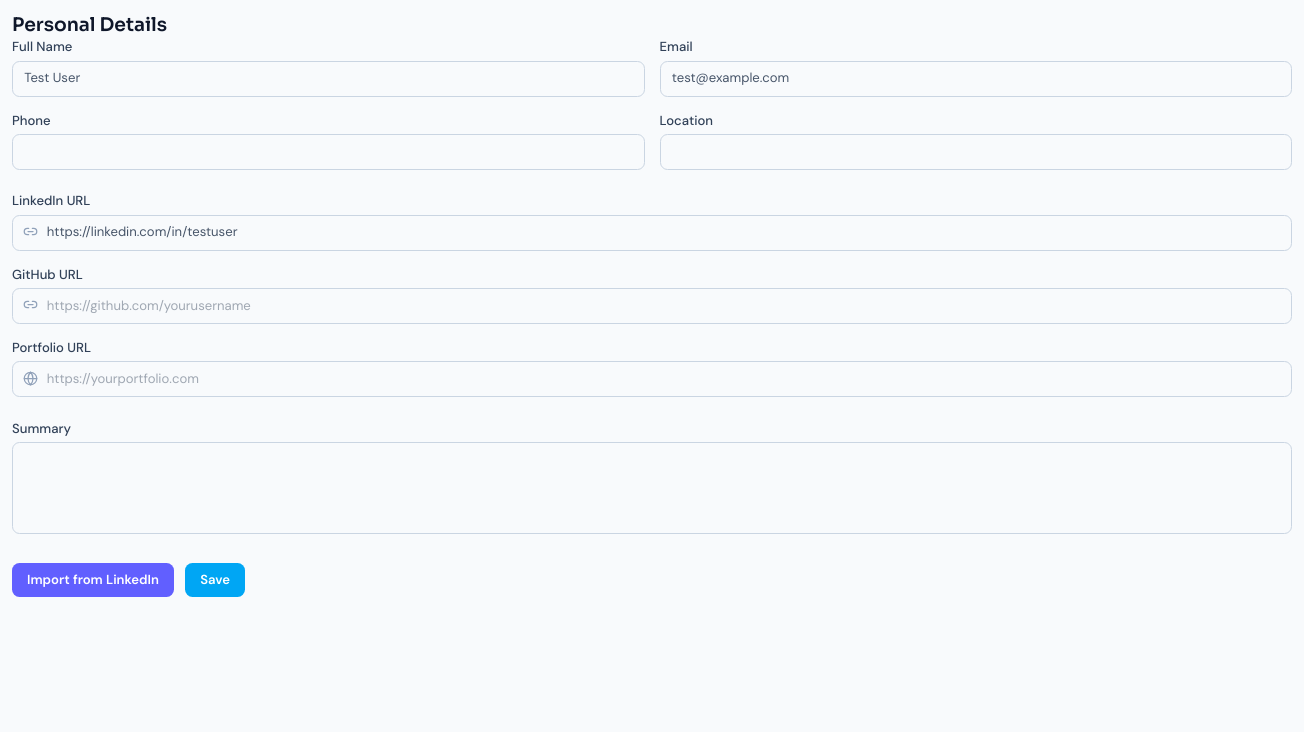
Test case: PersonalForm — LinkedIn Import › API error handling › displays error without status prefix when error has no status
This screenshot has width=1304, height=732.
What coordinates should you click on to do the following:
click the button "Import from LinkedIn"
I would click on:
 (93, 580)
Its box is [12,563,174,597].
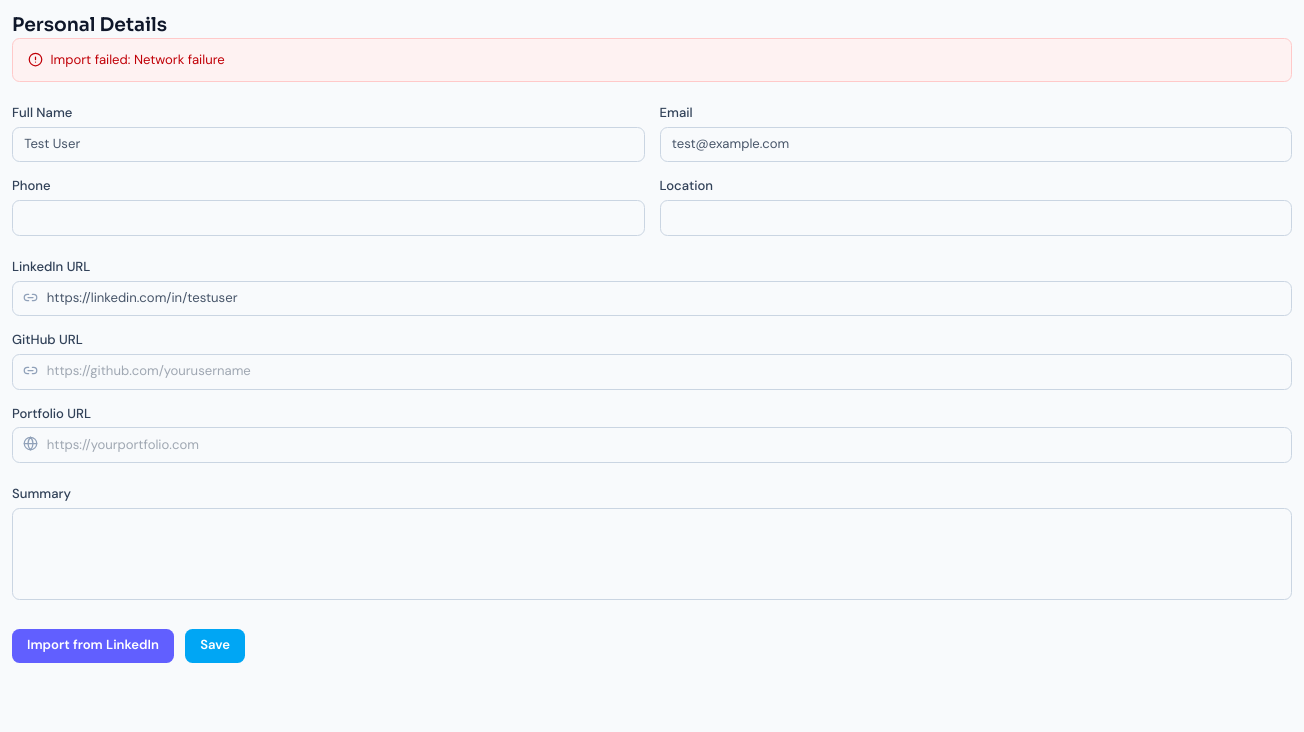
Check: the text "Import failed: Network failure" is shown, box [12,38,1292,82]
